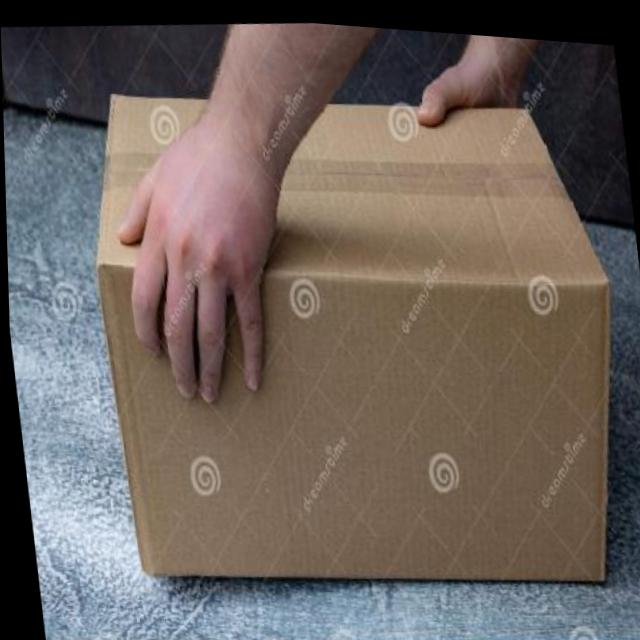box: (66, 13, 640, 640)
